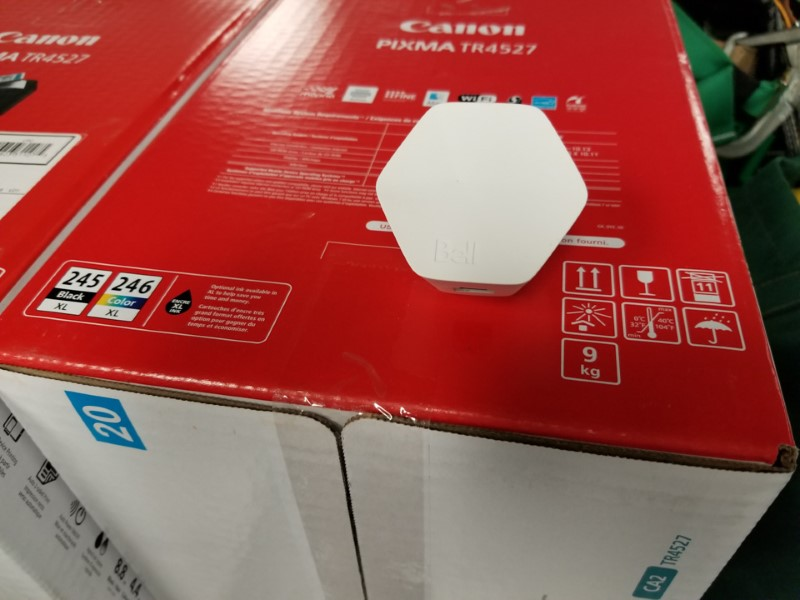pod: (372, 100, 606, 302)
